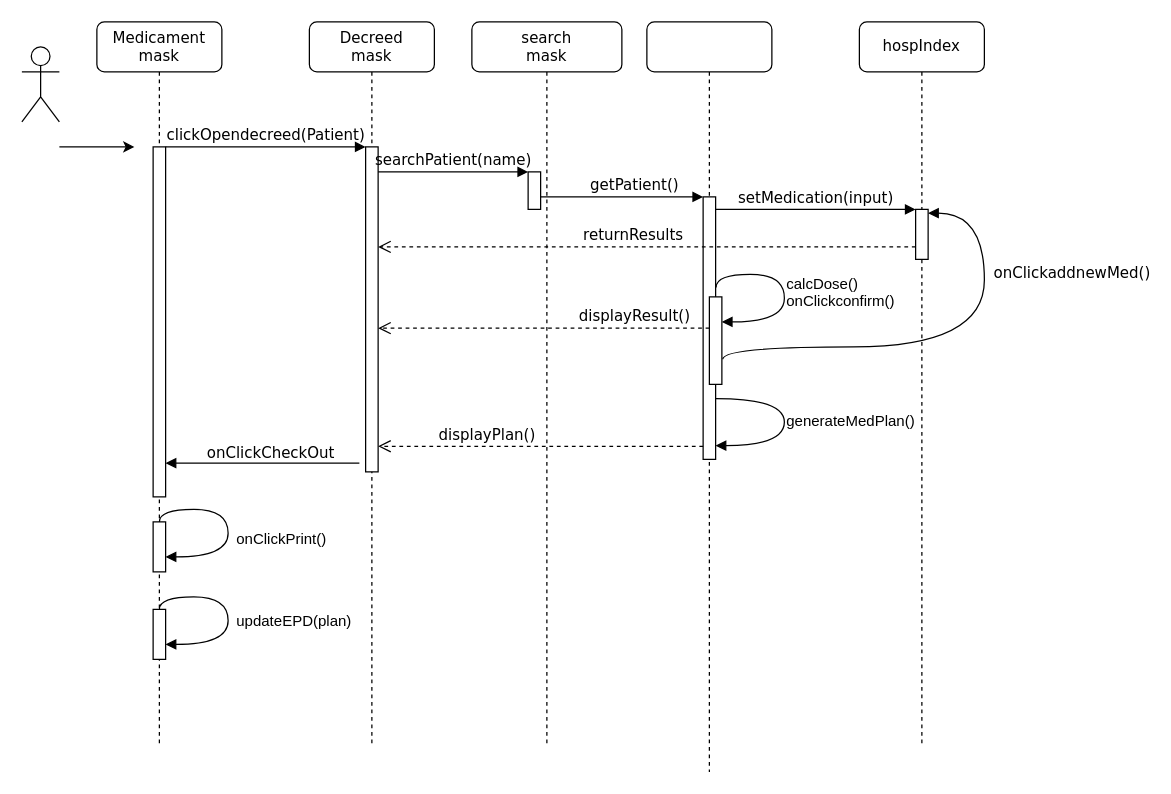
Some shapes in this 1171 by 794 pixel diagram are drawn without their labels. Here are the shapes that lost their labels. From the top down, the centre of each, then its label:
the point at 40,84: Arzt
the point at 709,396: Patient
